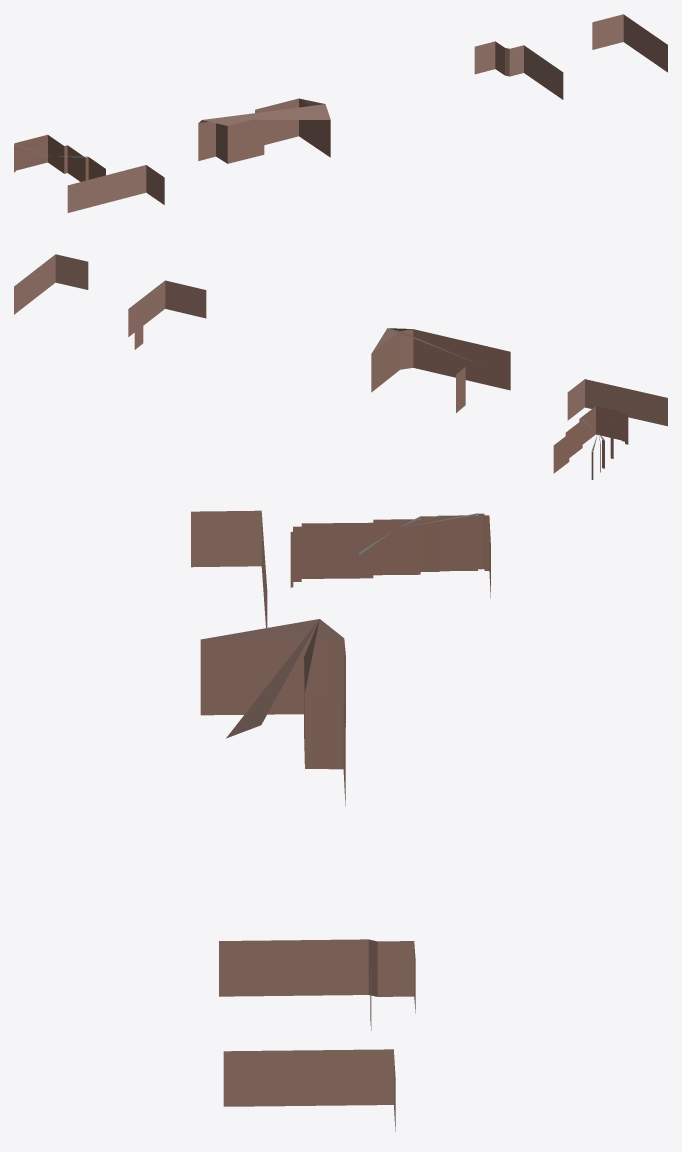
File: c_1633_17826_buildings_residential.glb
The picture shows the model from 3 angles, top to bottom: view 1: azimuth 30°, elevation 25°; view 2: azimuth 150°, elevation 25°; view 3: azimuth 270°, elevation 25°; orthographic projection. The views are drawn at different scales.
Parts seen in each view (by area): view 1: geometry_0; view 2: geometry_0; view 3: geometry_0.
Part boxes in pixels (x1,y1,x2,y2): geometry_0: (14,14,667,212); geometry_0: (14,254,667,479); geometry_0: (191,510,490,1131).
Bounding box in the file's own units: 245 × 18.5 × 53.84.
